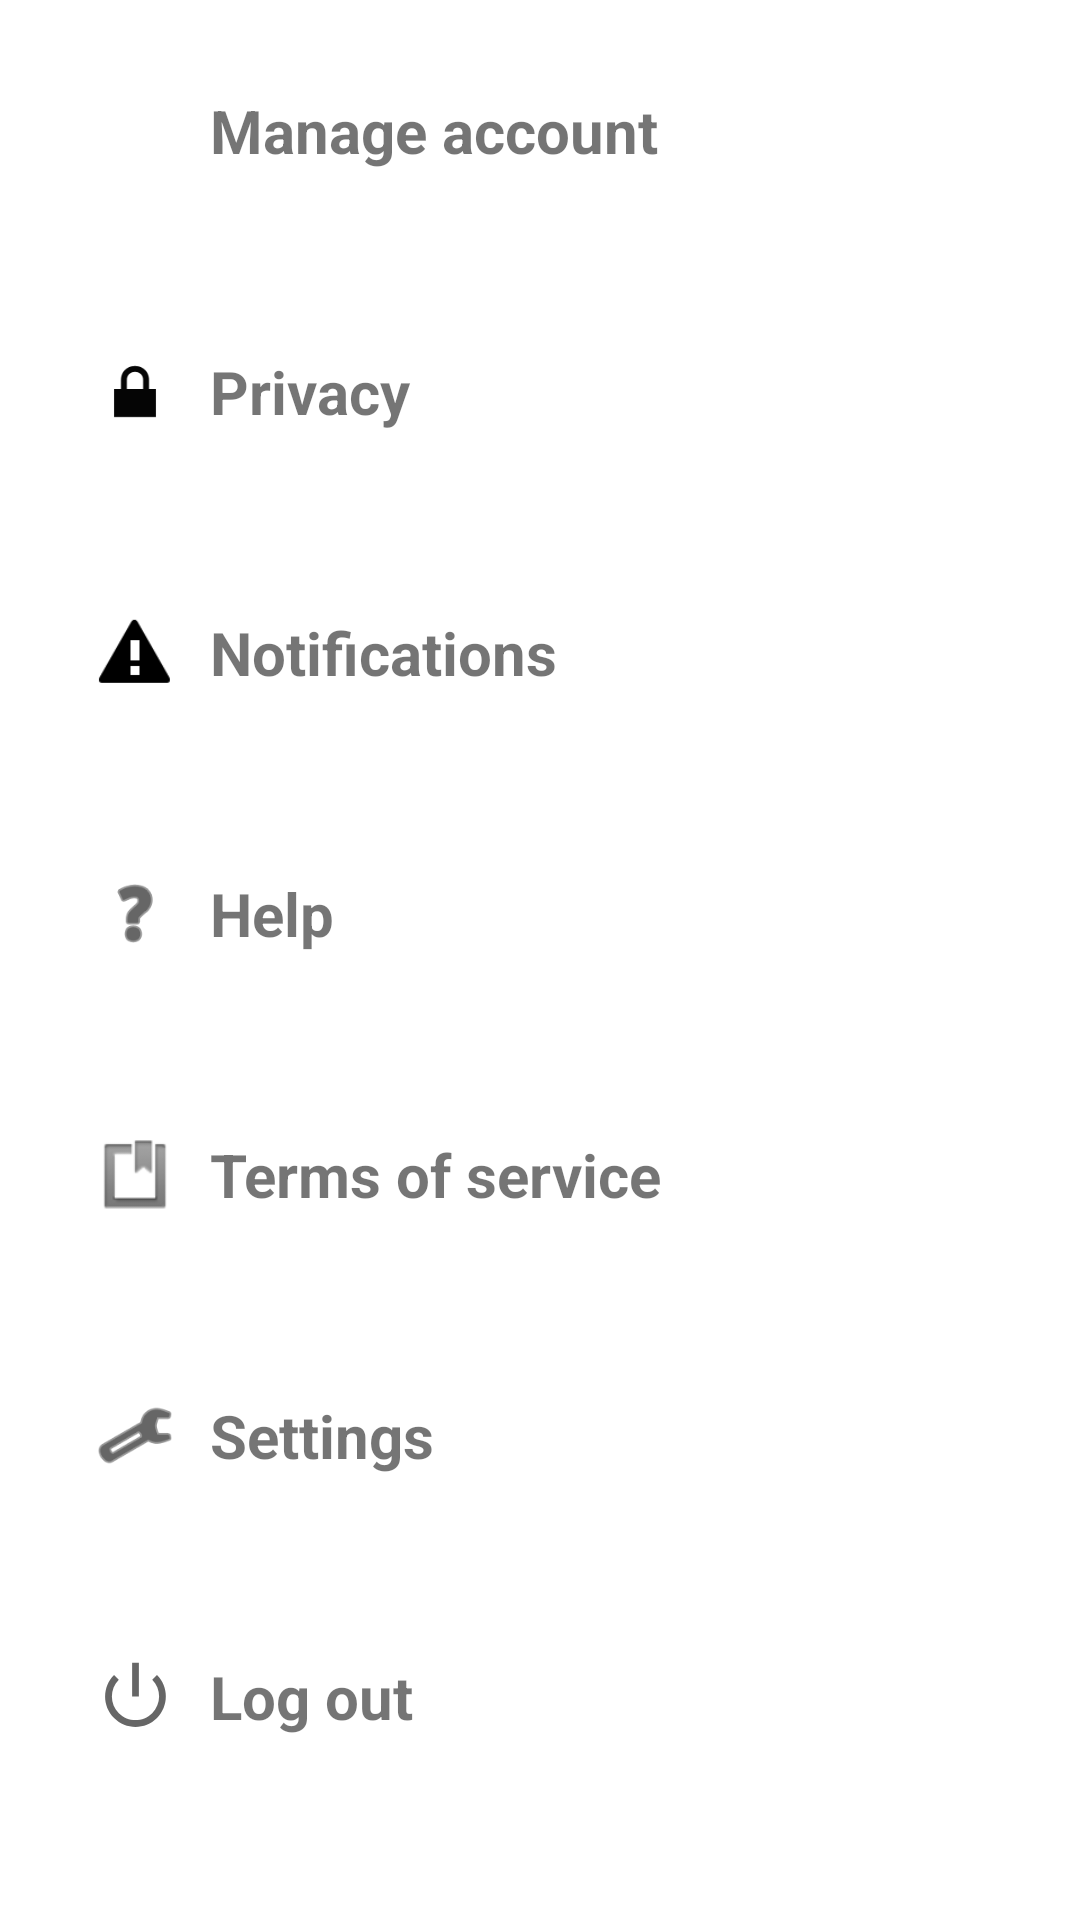

Named icons in this screenshot (1080px×1920px) and their centers, (x=x, y=y):
lock: (x=135, y=391)
lock power off: (x=135, y=1694)
warning: (x=134, y=651)
